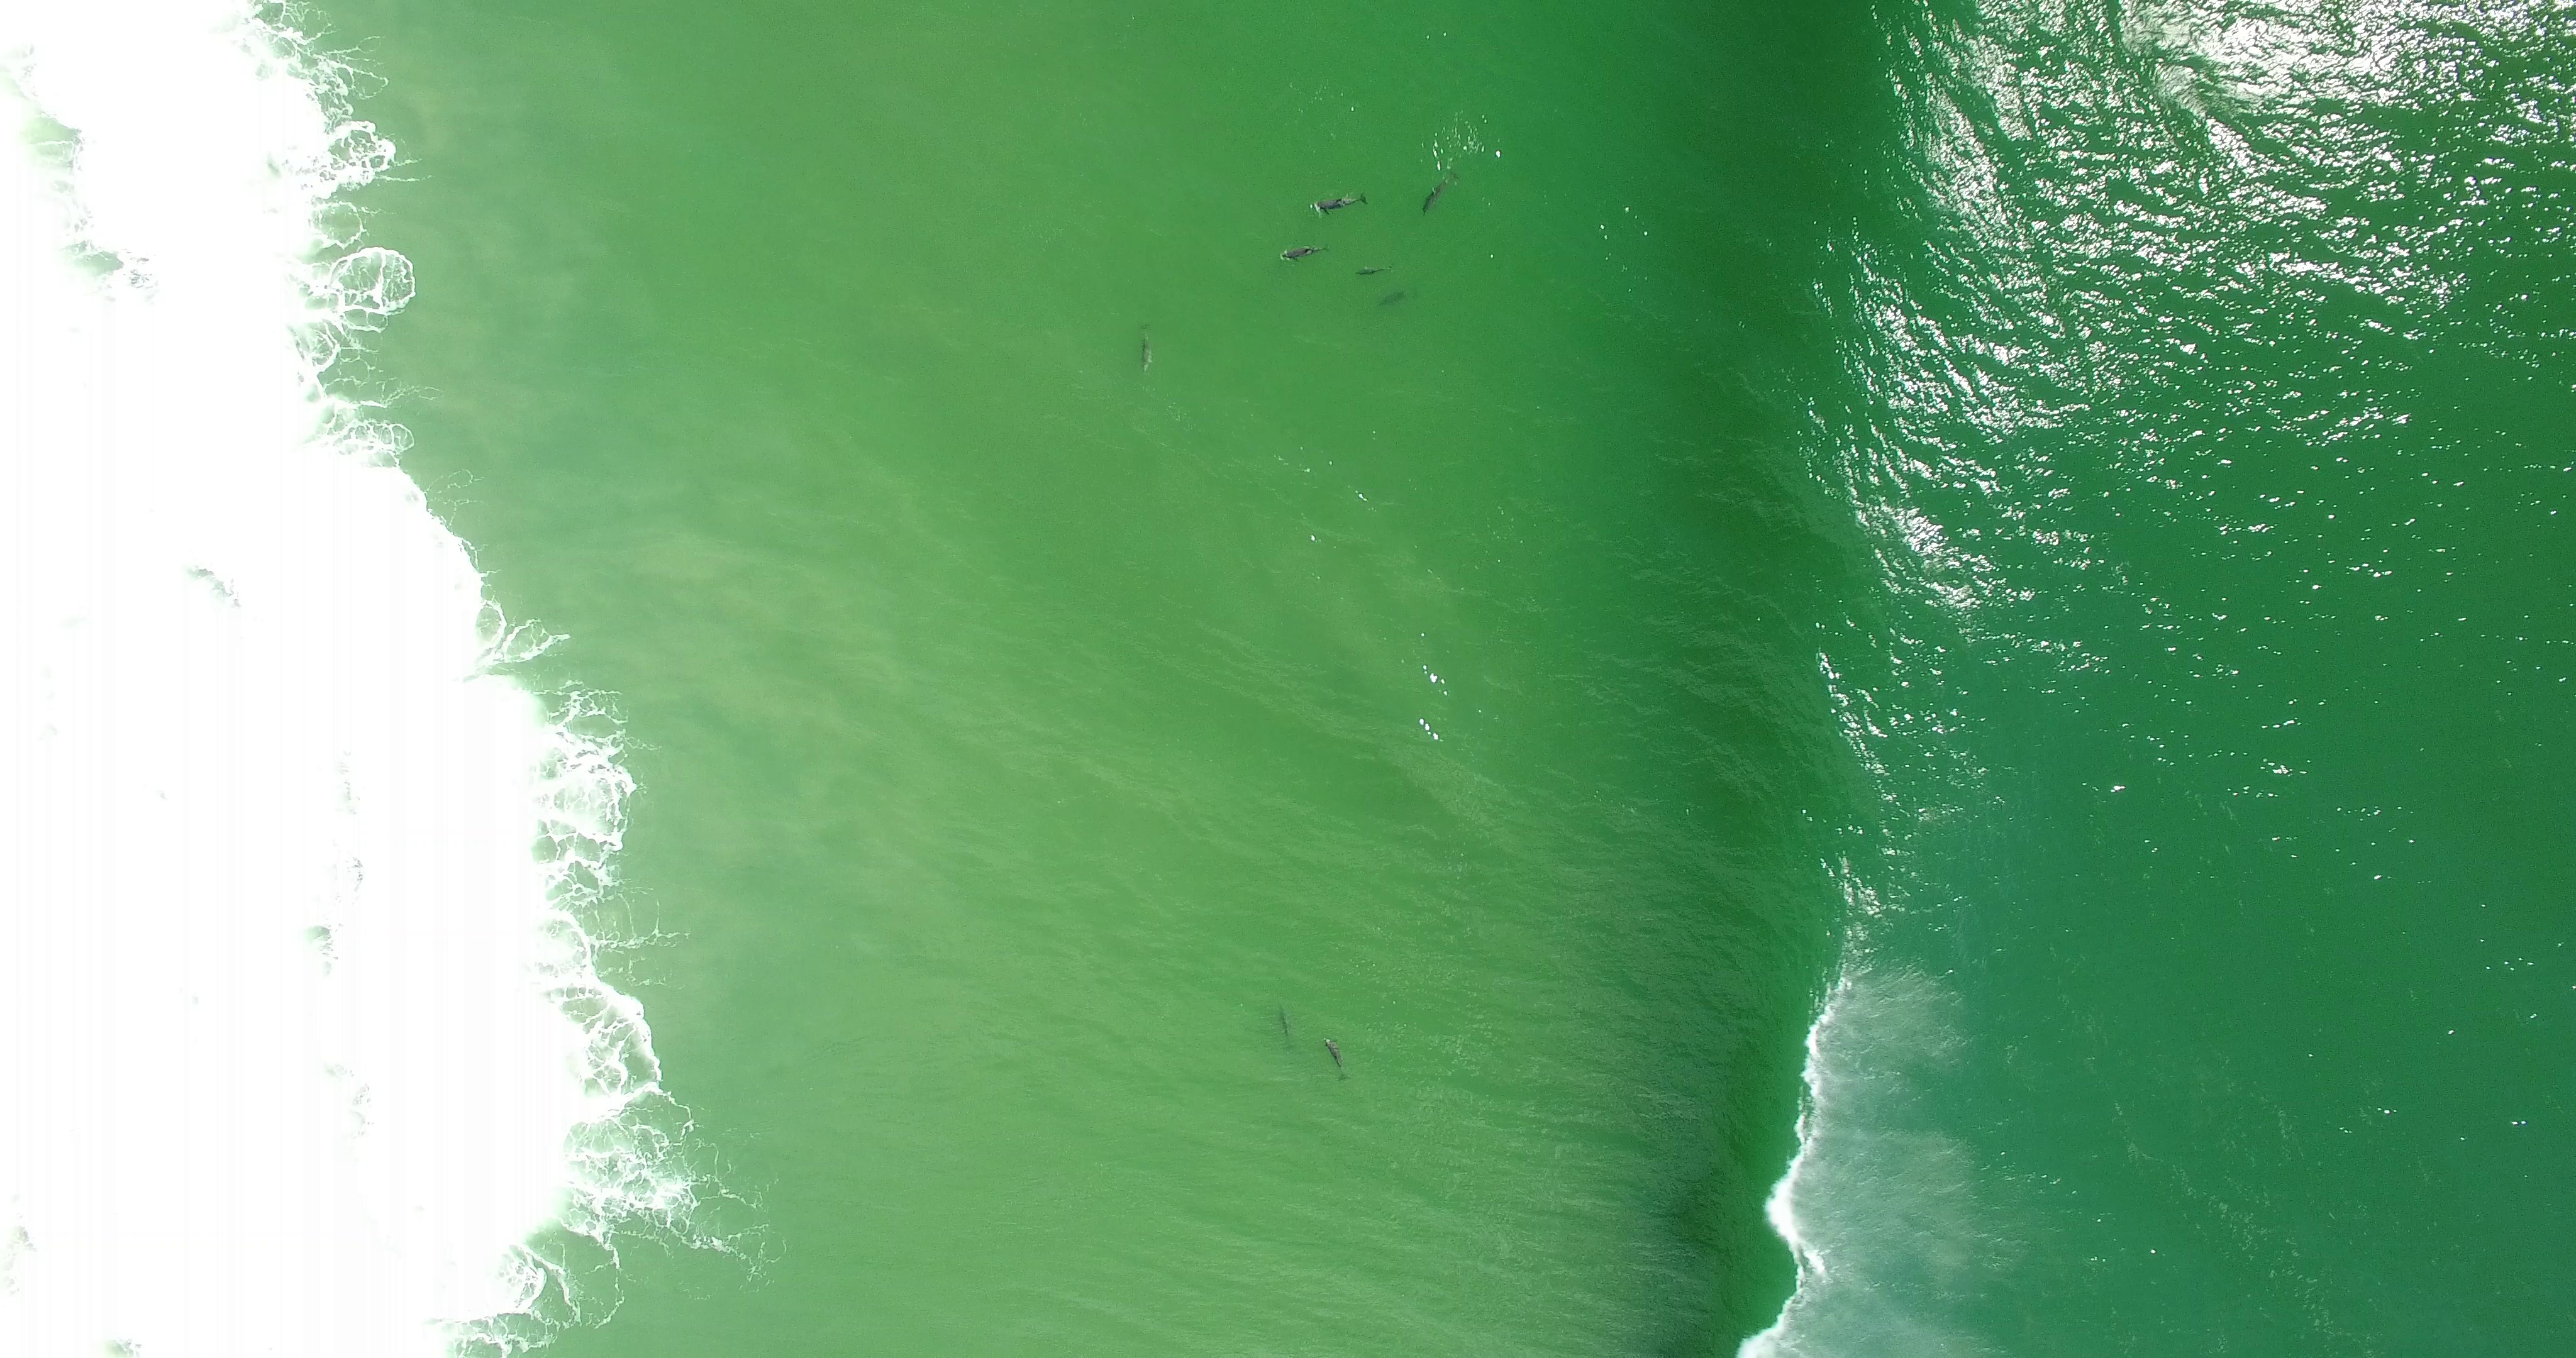dolphin: (1421, 169, 1458, 213), (1308, 194, 1371, 218), (1322, 1038, 1351, 1084), (1377, 281, 1419, 310), (1281, 239, 1329, 264), (1271, 1007, 1295, 1053), (1136, 322, 1155, 375), (1354, 259, 1395, 279)
